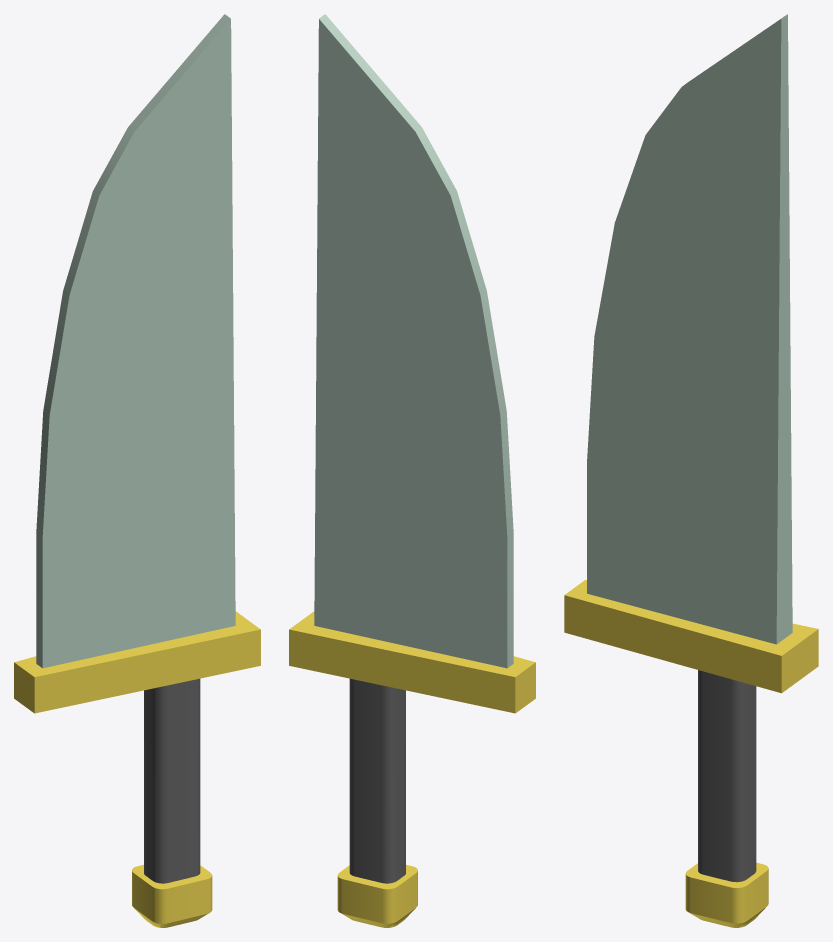
The model's file is Knife.fbx.
3 views of the same model, side by side, from view 1: azimuth 30°, elevation 25°; view 2: azimuth 150°, elevation 25°; view 3: azimuth 330°, elevation 25° (orthographic). The views are drawn at different scales.
Visible parts, largest first — view 1: Cube.005; view 2: Cube.005; view 3: Cube.005.
Part boxes in pixels (x1,y1,x2,y2): Cube.005: (14, 14, 260, 927); Cube.005: (289, 14, 535, 927); Cube.005: (564, 14, 818, 927).
Size of the model in its own units: 12.49 by 48.44 by 3.54.
1 material, 1 textured.
